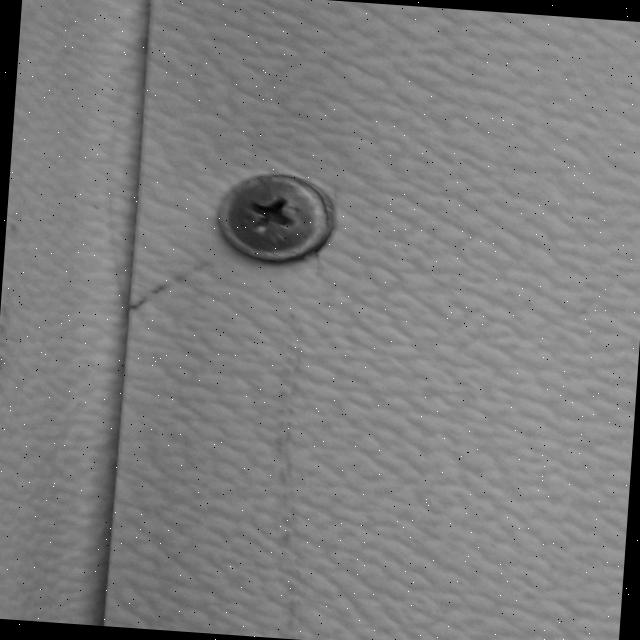Phillips: (210, 168, 336, 264)
